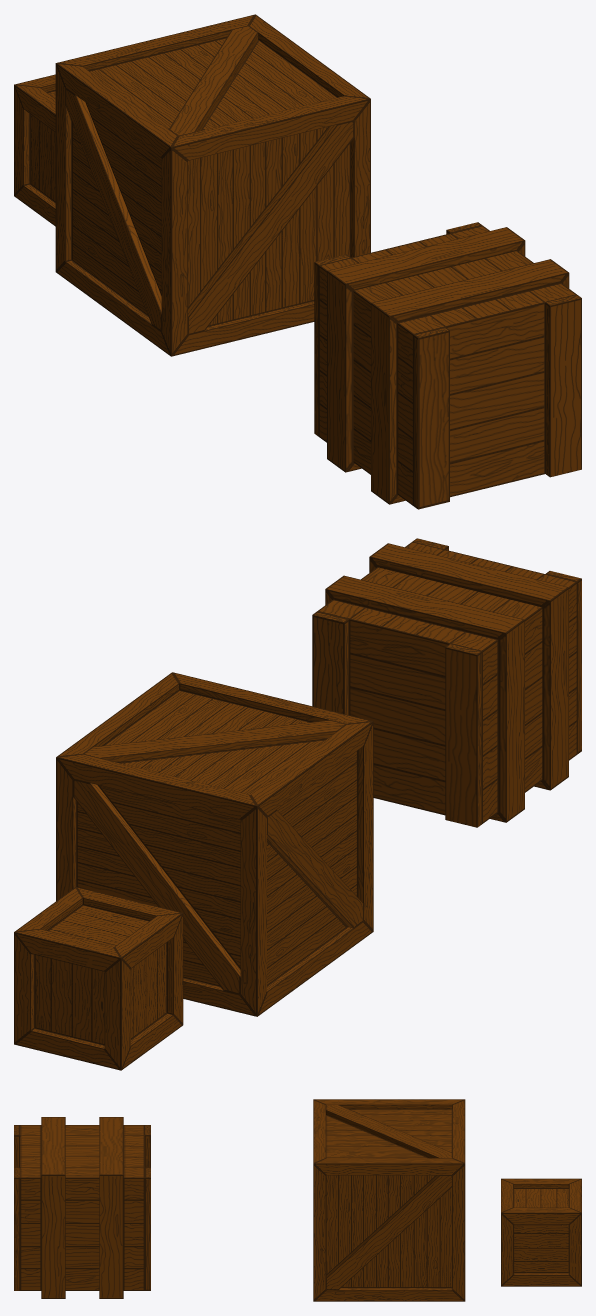
Rendered from Crates.fbx.
3 views of the same model, one above another, from view 1: azimuth 30°, elevation 25°; view 2: azimuth 150°, elevation 25°; view 3: azimuth 270°, elevation 25° (orthographic). The views are drawn at different scales.
Parts seen in each view (by area): view 1: Large Crate, Medium Crate, Small Crate; view 2: Large Crate, Medium Crate, Small Crate; view 3: Large Crate, Medium Crate, Small Crate.
Boxes of the visible parts, bbox=[...] form: Large Crate: bbox=[55, 14, 370, 356]; Medium Crate: bbox=[314, 222, 581, 509]; Small Crate: bbox=[14, 74, 55, 226]; Large Crate: bbox=[56, 672, 373, 1016]; Medium Crate: bbox=[312, 538, 581, 827]; Small Crate: bbox=[14, 887, 183, 1070]; Large Crate: bbox=[313, 1099, 465, 1301]; Medium Crate: bbox=[14, 1117, 150, 1298]; Small Crate: bbox=[501, 1178, 581, 1286].
Size of the model in its own units: 300 by 300 by 1120.
